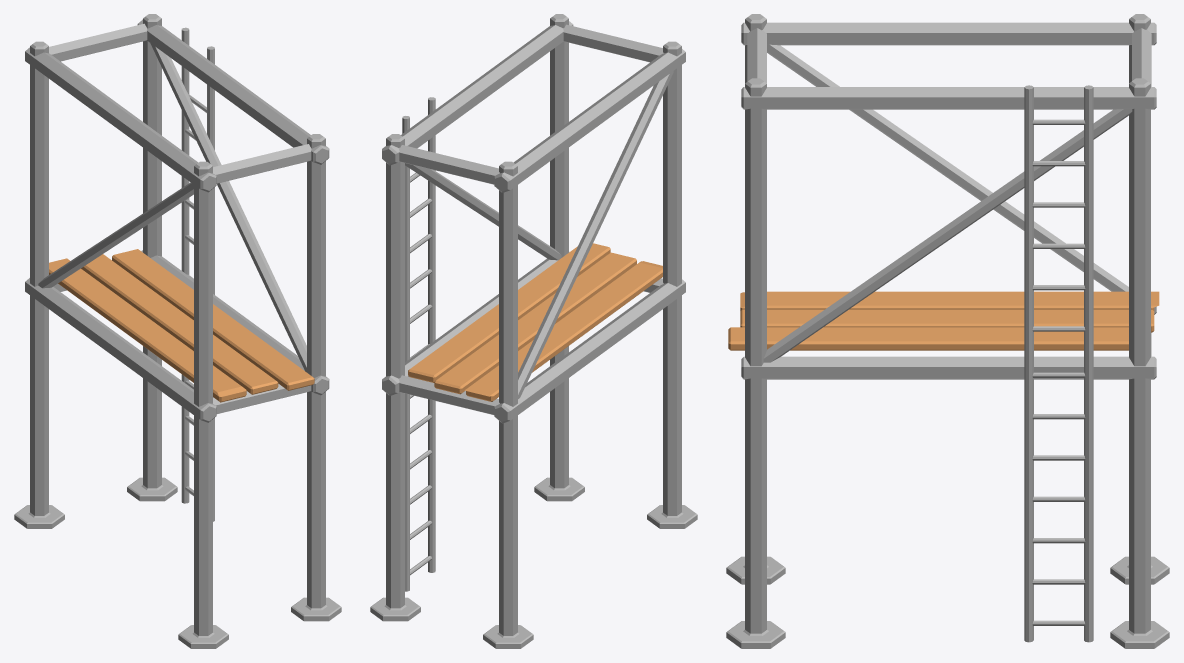
The model's file is Scaffolding B.glb.
3 views of the same model, side by side, from view 1: azimuth 30°, elevation 25°; view 2: azimuth 150°, elevation 25°; view 3: azimuth 270°, elevation 25° (orthographic). The views are drawn at different scales.
Visible parts, largest first — view 1: Scaffolding B; view 2: Scaffolding B; view 3: Scaffolding B.
Boxes of the visible parts, x1,y1,x2,y2 form: Scaffolding B: (14,14,341,648); Scaffolding B: (370,14,697,648); Scaffolding B: (726,14,1169,648).
Size of the model in its own units: 228 by 687 by 495.
